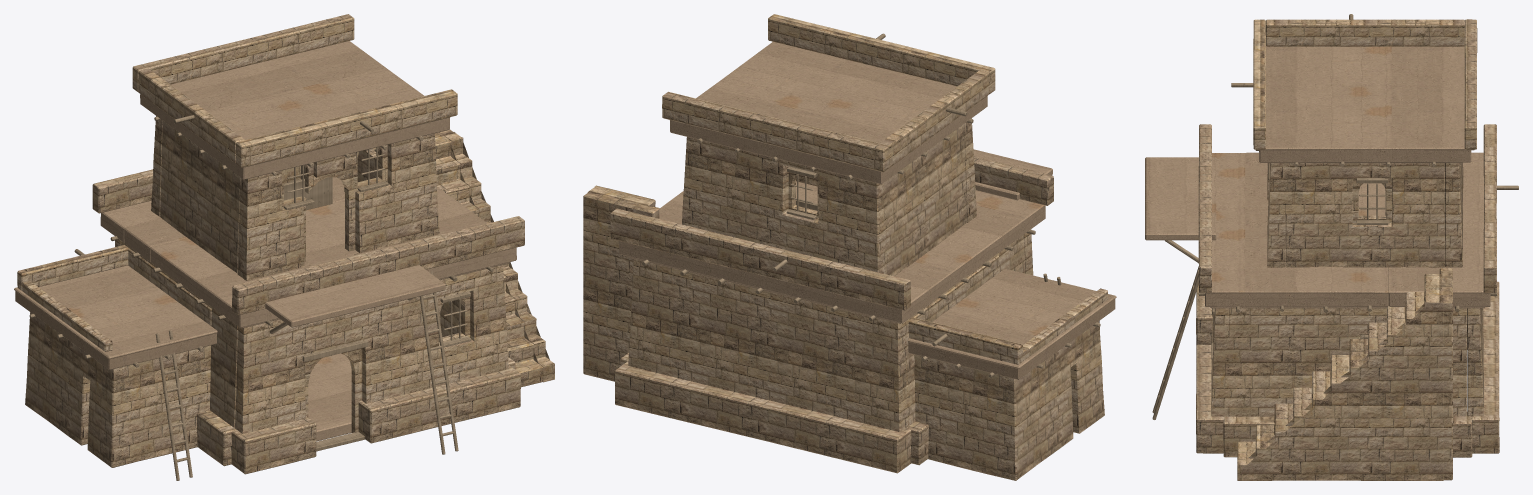
3 renders of one model, left to right at view 1: azimuth 30°, elevation 25°; view 2: azimuth 150°, elevation 25°; view 3: azimuth 270°, elevation 25°, orthographic. The views are drawn at different scales.
Parts seen in each view (by area): view 1: house; view 2: house; view 3: house.
Part boxes in pixels (x1,y1,x2,y2): house: [14, 14, 554, 480]; house: [583, 14, 1116, 480]; house: [1145, 14, 1518, 480].
Size of the model in its own units: 12.6 by 8.61 by 9.18.
3 materials, 3 textured.
